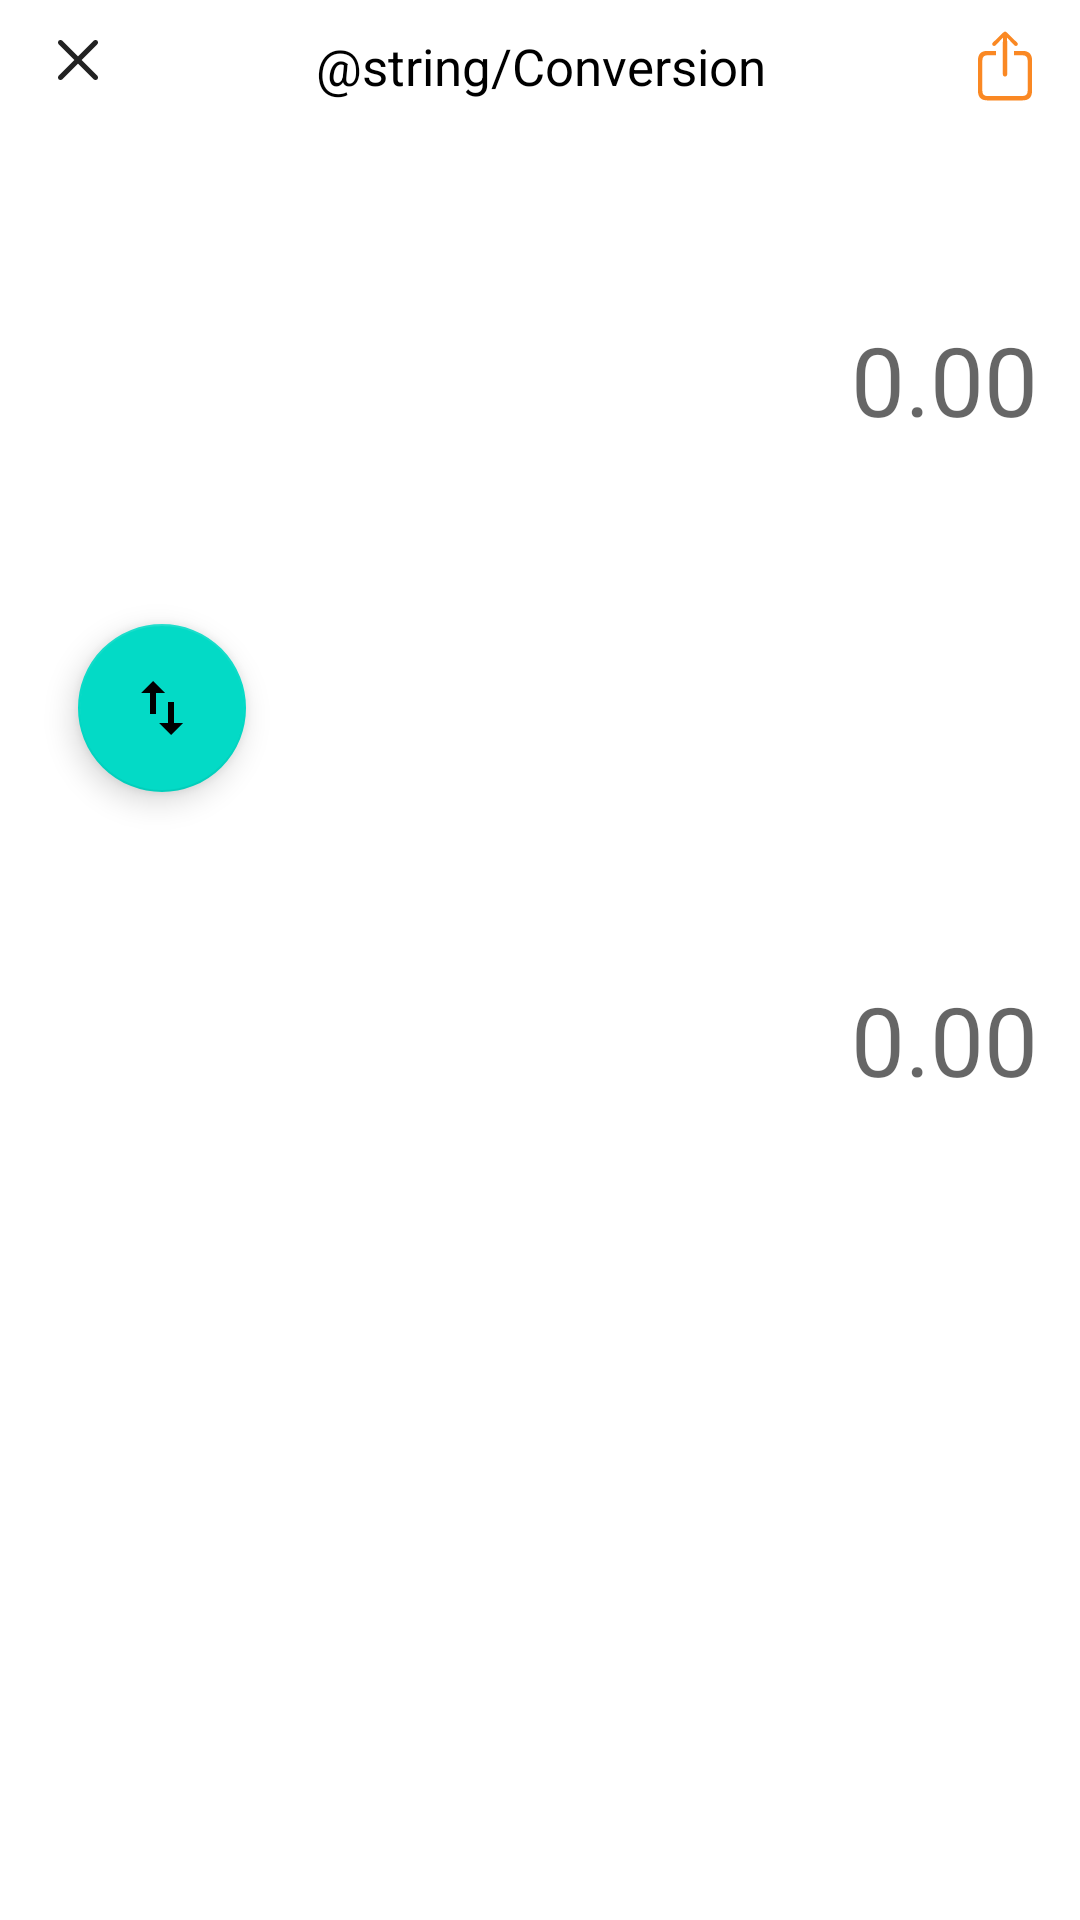

Locate icon controls on the screen. Image size 1080w x 1920h, boxes as (x1, y1, x2, y2).
export: (978, 31, 1032, 101)
swap vertical: (78, 624, 246, 792)
uil multiply: (58, 40, 98, 80)
